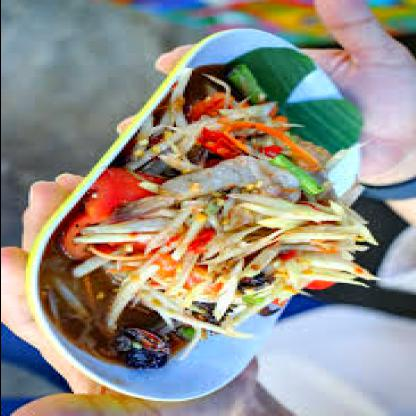Papaya Salad: (11, 32, 375, 404)
